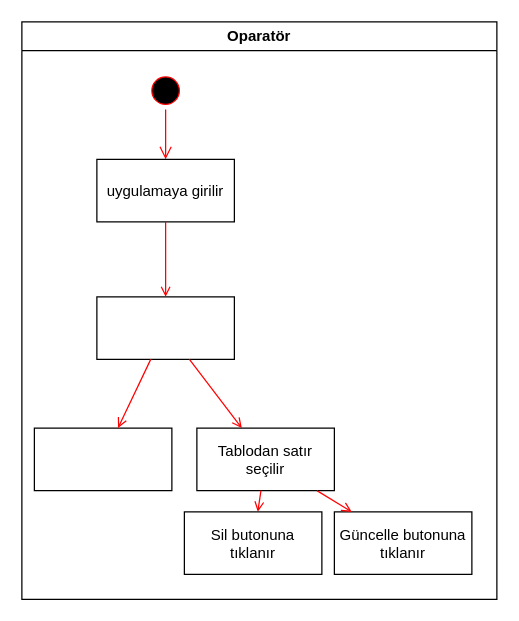
Some shapes in this 519 by 621 pixel diagram are drawn without their labels. The centre of each missing label's shape, as x and y in pixels:
"Ekle butonuna tıklanır" goes at [102,459].
"Gerekli alanlar doldurulur" goes at [165,327].
